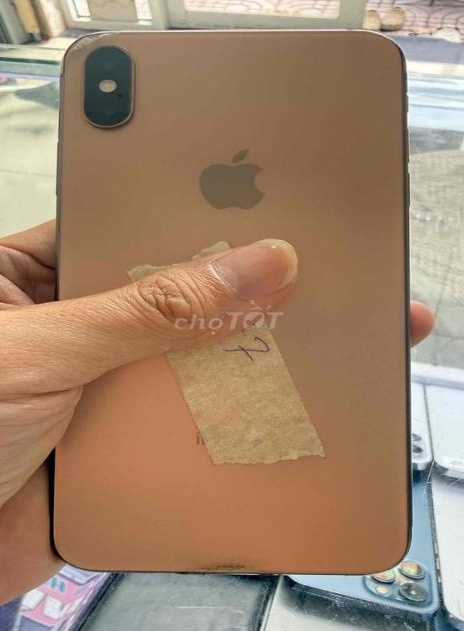scratch: (178, 558, 267, 579)
